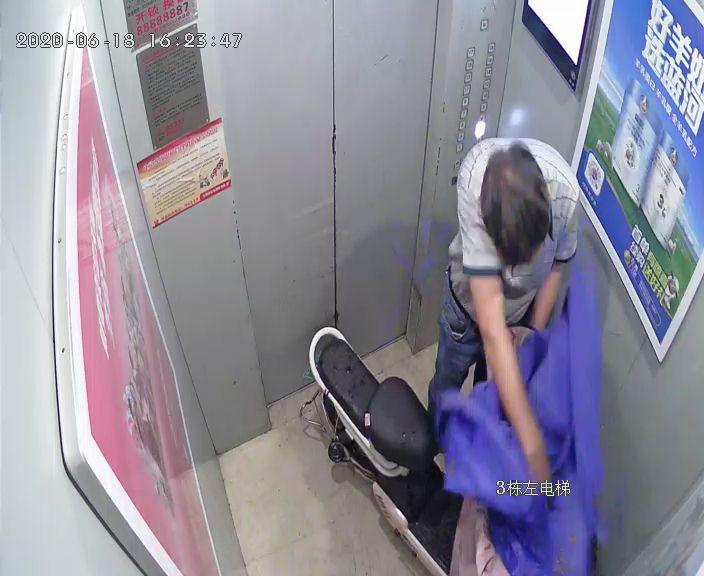Electric-bicycle: (299, 324, 608, 570)
